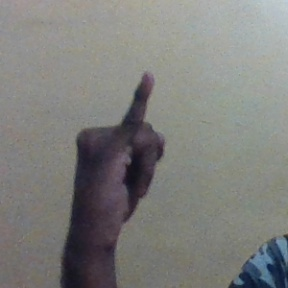I: (68, 65, 171, 250)
